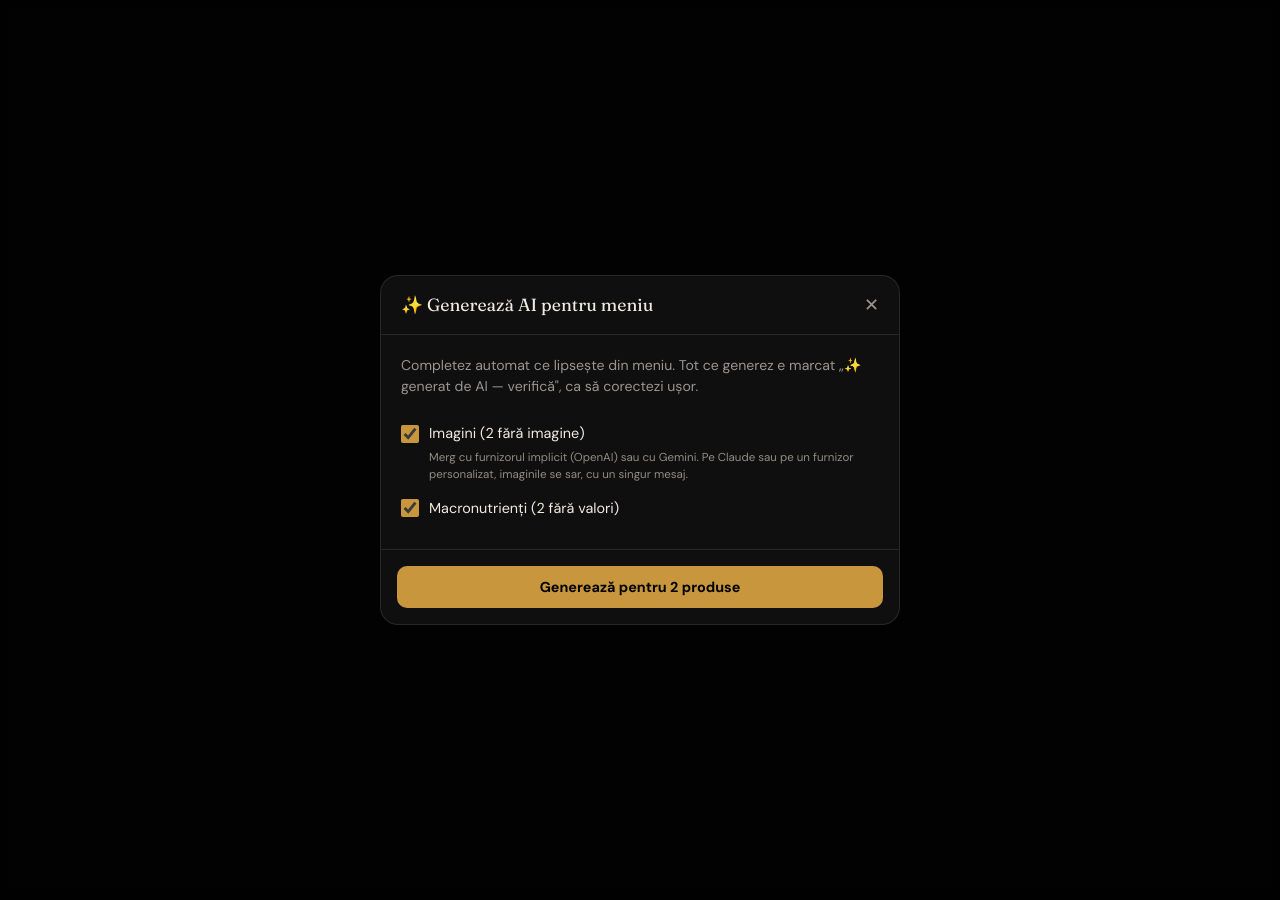
Test: AiBulkGenerate — erori de configurare › ABG3: imaginile oprite nu opresc macronutrienții
Click the button "Generează pentru 2 produse": click(640, 587) 397,566 -> 883,608
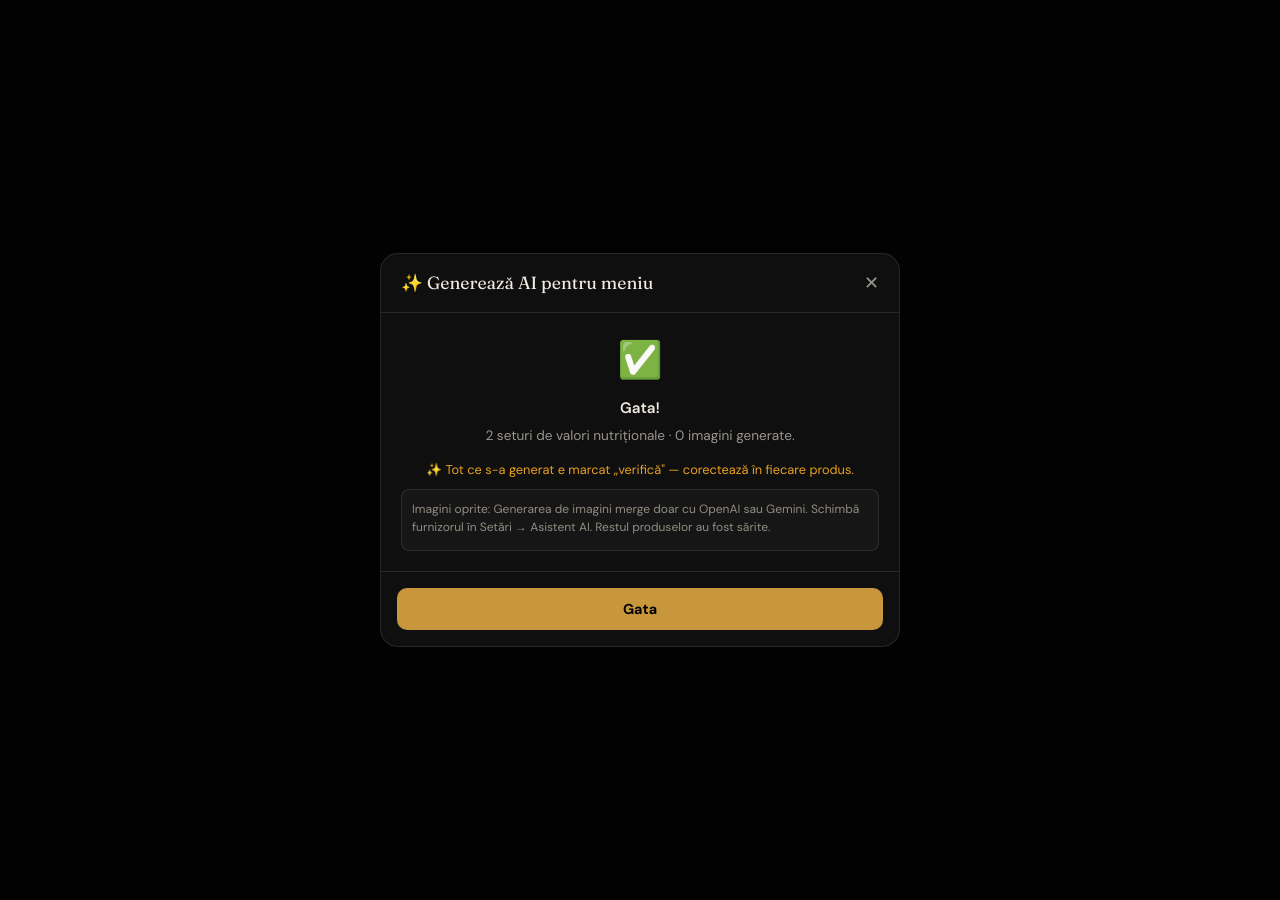
Now the text "Gata!" is shown, box 620,398 -> 660,418
Now the text "2 seturi de valori nutriționale · 0 imagini generate." is shown, box 485,427 -> 795,444
